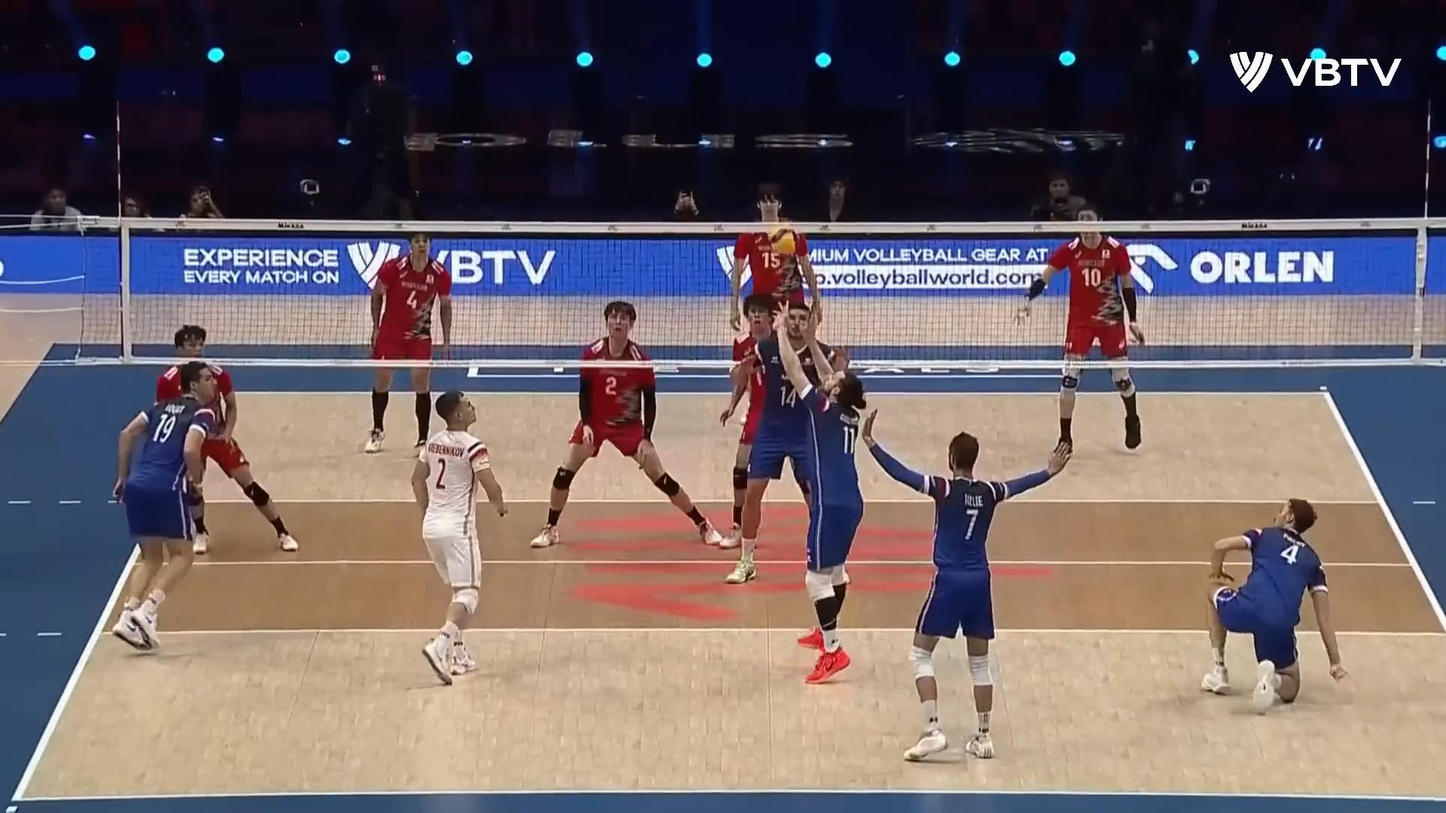ball: (768, 228, 799, 256)
